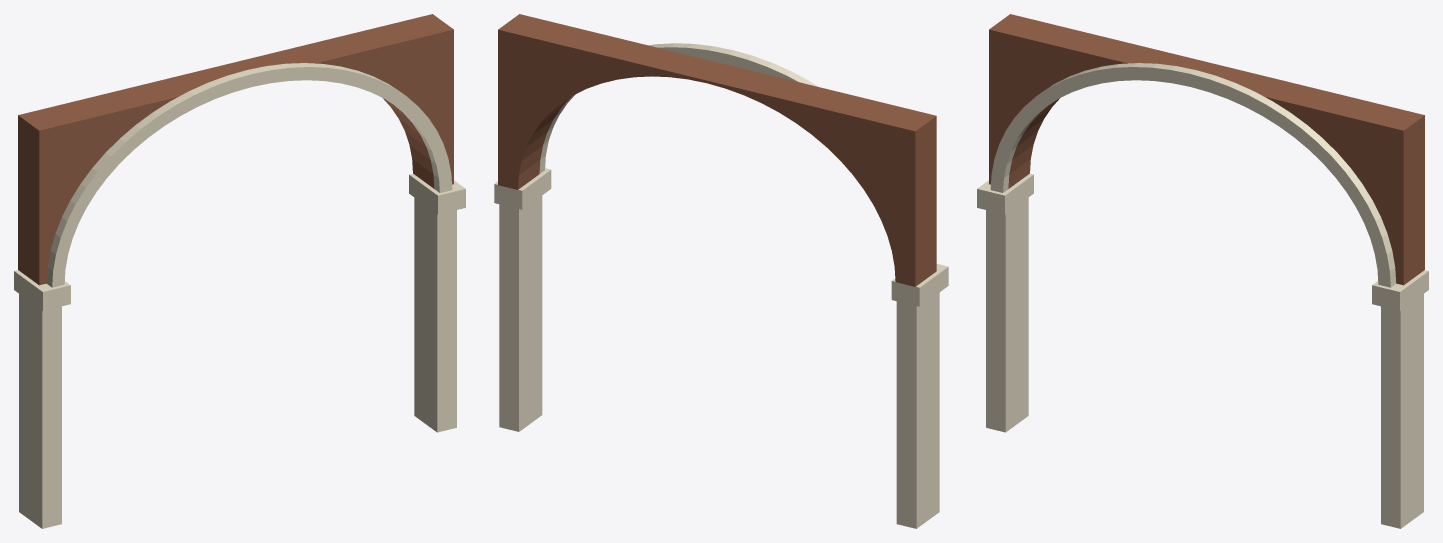
Rendered from storefront-arch-bay.glb.
3 renders of one model, left to right at view 1: azimuth 30°, elevation 25°; view 2: azimuth 150°, elevation 25°; view 3: azimuth 330°, elevation 25°, orthographic.
Visible parts, largest first — view 1: Arch spandrel, Masonry arch trim, Arcade pier.001, Arcade pier, Pier capital, Pier capital.001; view 2: Arch spandrel, Arcade pier, Arcade pier.001, Masonry arch trim, Pier capital, Pier capital.001; view 3: Arch spandrel, Masonry arch trim, Arcade pier, Arcade pier.001, Pier capital, Pier capital.001.
Boxes of the visible parts, box(x1,y1,x2,y2) form: Arch spandrel: box(18, 14, 453, 285); Masonry arch trim: box(46, 63, 452, 287); Arcade pier.001: box(414, 184, 456, 432); Arcade pier: box(19, 284, 61, 528); Pier capital: box(14, 270, 70, 310); Pier capital.001: box(409, 173, 465, 214); Arch spandrel: box(498, 14, 936, 286); Arcade pier: box(896, 292, 939, 528); Arcade pier.001: box(499, 195, 542, 431); Masonry arch trim: box(539, 43, 818, 173); Pier capital: box(891, 264, 948, 306); Pier capital.001: box(494, 168, 551, 209); Arch spandrel: box(989, 14, 1424, 285); Masonry arch trim: box(990, 63, 1396, 287); Arcade pier: box(986, 184, 1028, 432); Arcade pier.001: box(1381, 284, 1423, 528); Pier capital: box(977, 173, 1033, 214); Pier capital.001: box(1372, 270, 1428, 310).
Size of the model in its own units: 8.16 by 7.49 by 0.97.
